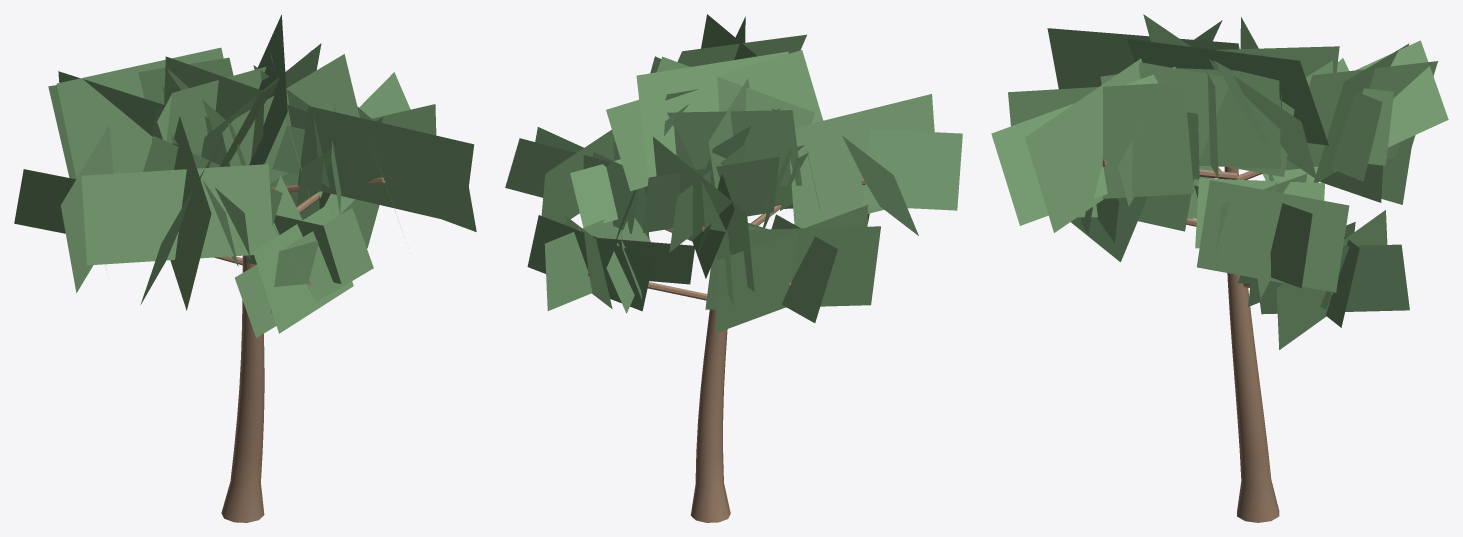
The model's file is Pine_Maritime_A.fbx.
3 renders of one model, left to right at view 1: azimuth 30°, elevation 25°; view 2: azimuth 150°, elevation 25°; view 3: azimuth 270°, elevation 25°, orthographic. The views are drawn at different scales.
Parts seen in each view (by area): view 1: Pine_Canopy, Pine_Trunk; view 2: Pine_Canopy, Pine_Trunk; view 3: Pine_Canopy, Pine_Trunk.
Part boxes in pixels (x1,y1,x2,y2): Pine_Canopy: [14, 14, 476, 337]; Pine_Trunk: [221, 255, 264, 522]; Pine_Canopy: [505, 14, 962, 332]; Pine_Trunk: [690, 309, 730, 522]; Pine_Canopy: [991, 14, 1448, 349]; Pine_Trunk: [1224, 167, 1279, 522].
Size of the model in its own units: 11.63 by 13.46 by 11.57.
